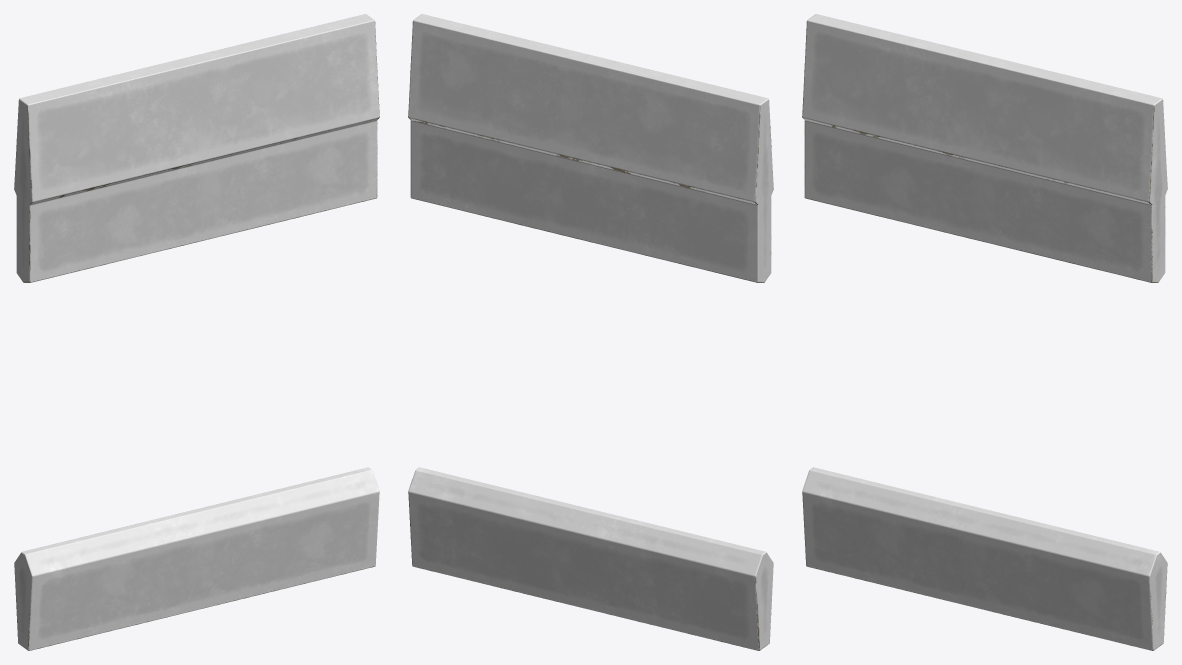
File: Wall Window.glb
3 renders of one model, left to right at view 1: azimuth 30°, elevation 25°; view 2: azimuth 150°, elevation 25°; view 3: azimuth 330°, elevation 25°, orthographic.
Visible parts, largest first — view 1: Straight Wall Base Window; view 2: Straight Wall Base Window; view 3: Straight Wall Base Window.
Boxes of the visible parts, left/top/right/bottom form: Straight Wall Base Window: left=14, top=14, right=379, bottom=650; Straight Wall Base Window: left=408, top=14, right=773, bottom=650; Straight Wall Base Window: left=802, top=14, right=1167, bottom=650.
Size of the model in its own units: 2 by 3 by 0.1861.
Materials: 1 (1 with a texture image).
